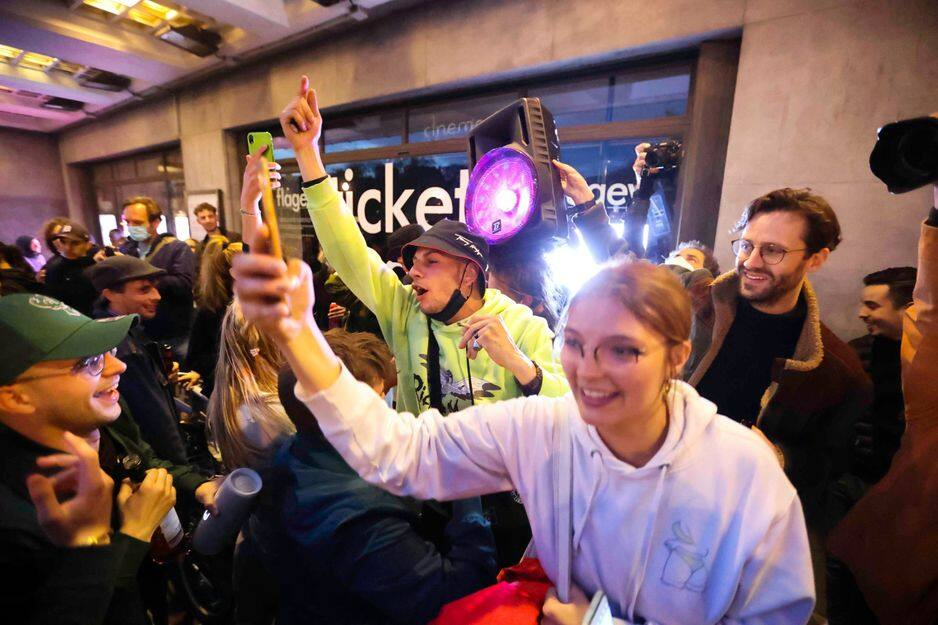with_incorrect_mask: (407, 251, 478, 330)
with_mask: (123, 208, 156, 244)
without_mask: (562, 312, 667, 427), (46, 344, 130, 426), (729, 228, 806, 300), (853, 284, 896, 338), (121, 282, 165, 326), (199, 207, 219, 231)
